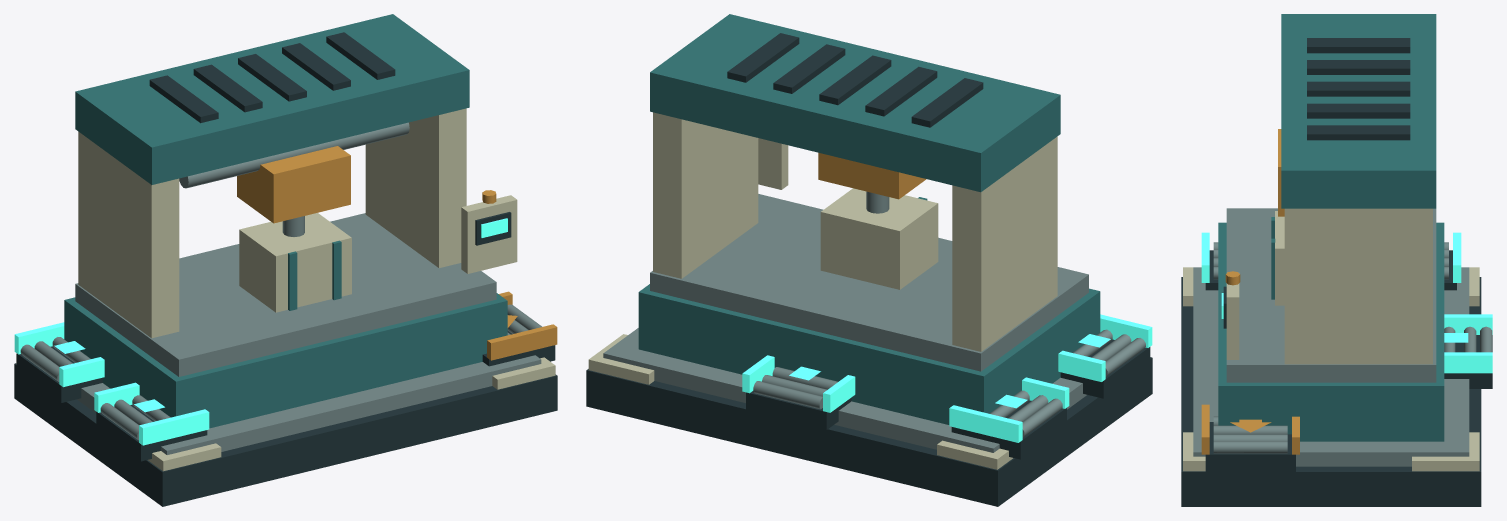
File: assembler.glb
The picture shows the model from 3 angles, left to right: view 1: azimuth 30°, elevation 25°; view 2: azimuth 150°, elevation 25°; view 3: azimuth 270°, elevation 25°; orthographic projection. The views are drawn at different scales.
Parts seen in each view (by area): view 1: Batched static factory; view 2: Batched static factory; view 3: Batched static factory.
Part boxes in pixels (x1,y1,x2,y2): Batched static factory: (14, 14, 557, 506); Batched static factory: (586, 14, 1152, 506); Batched static factory: (1181, 14, 1492, 506).
Bounding box in the file's own units: 3 × 2.21 × 1.93.
